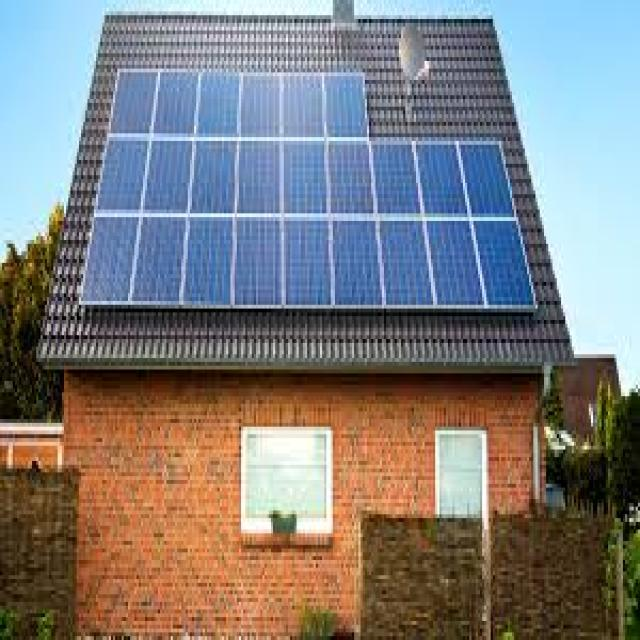clean-solar-panel: (81, 69, 535, 306)
